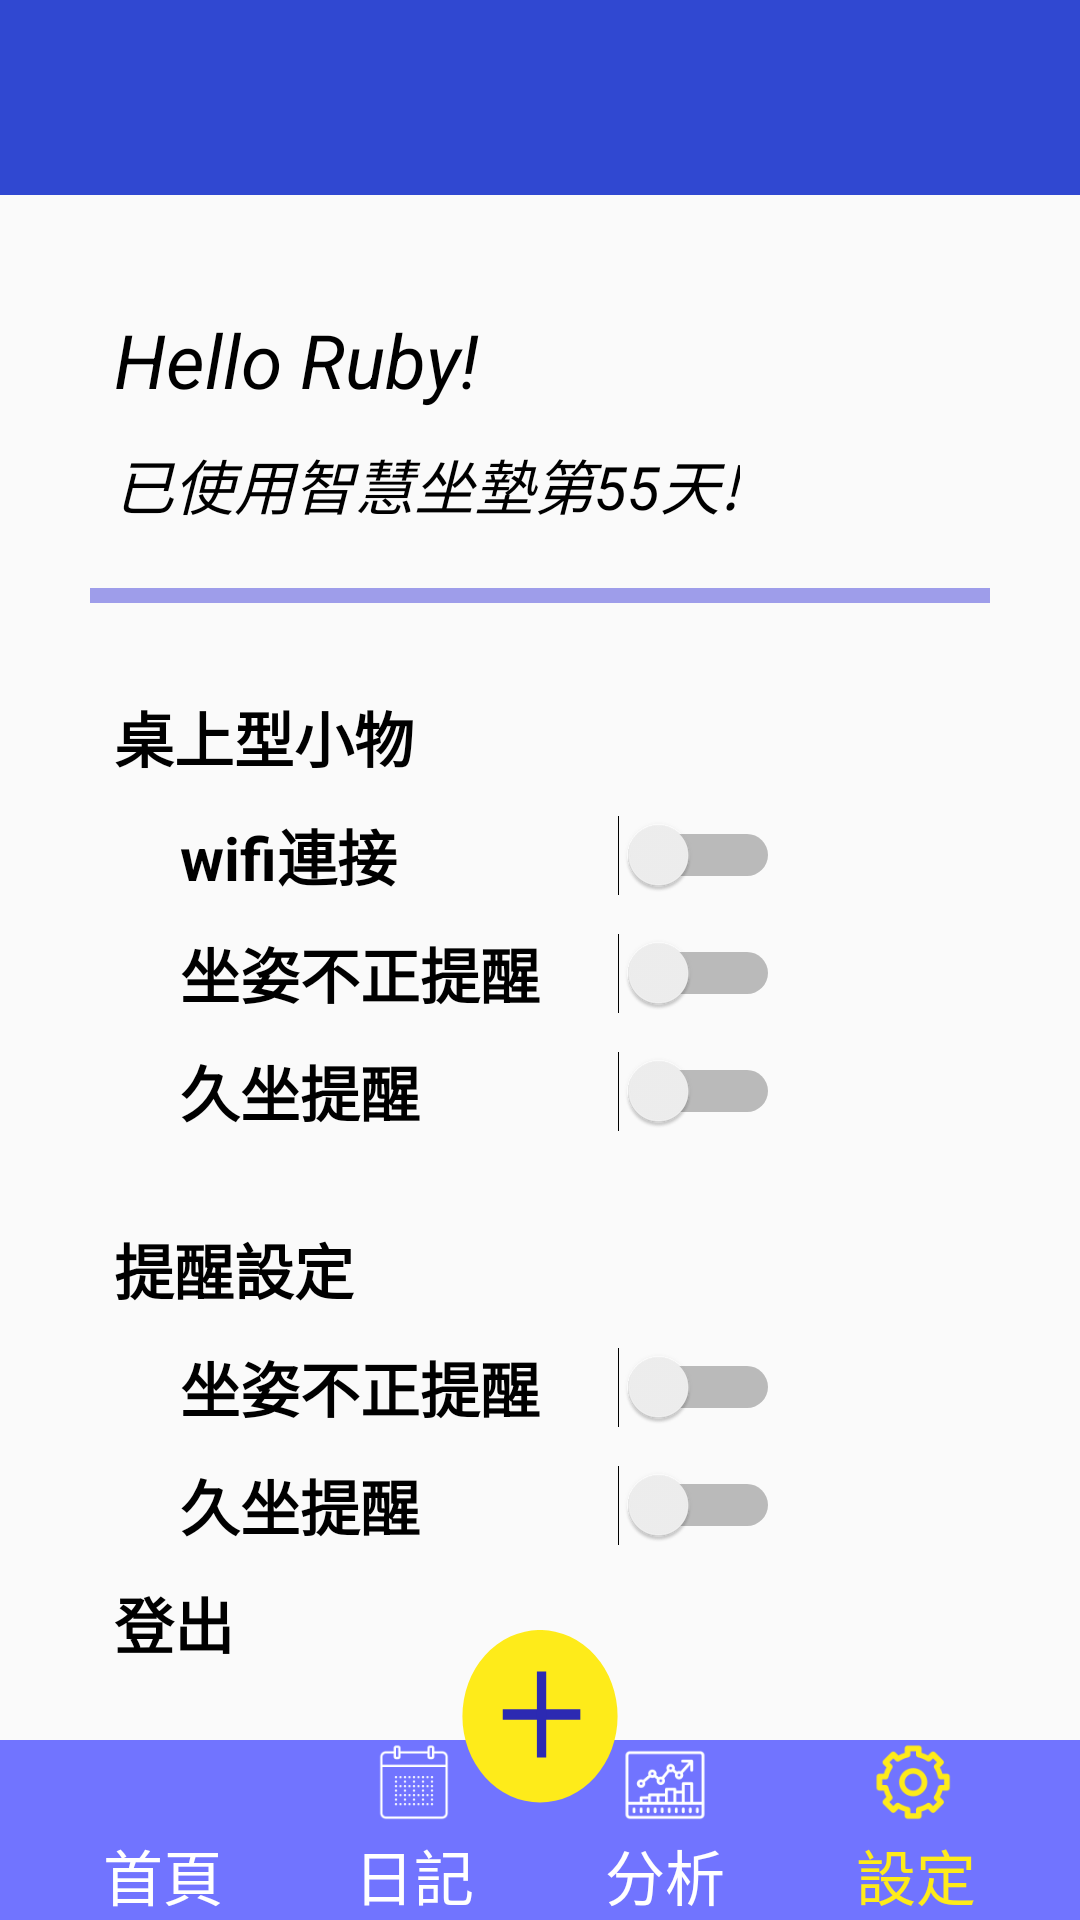

Point at icon controls on the screen. Image size 1080 × 1920, points as [x,y].
plus: [540,1730]
